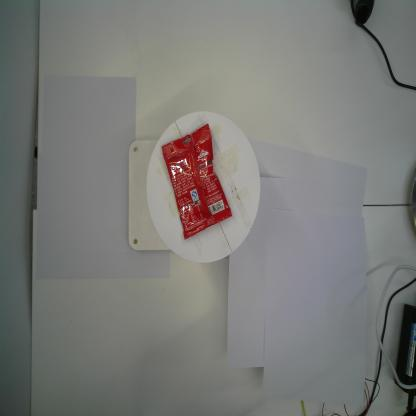Instant Drink: (160, 120, 233, 242)
